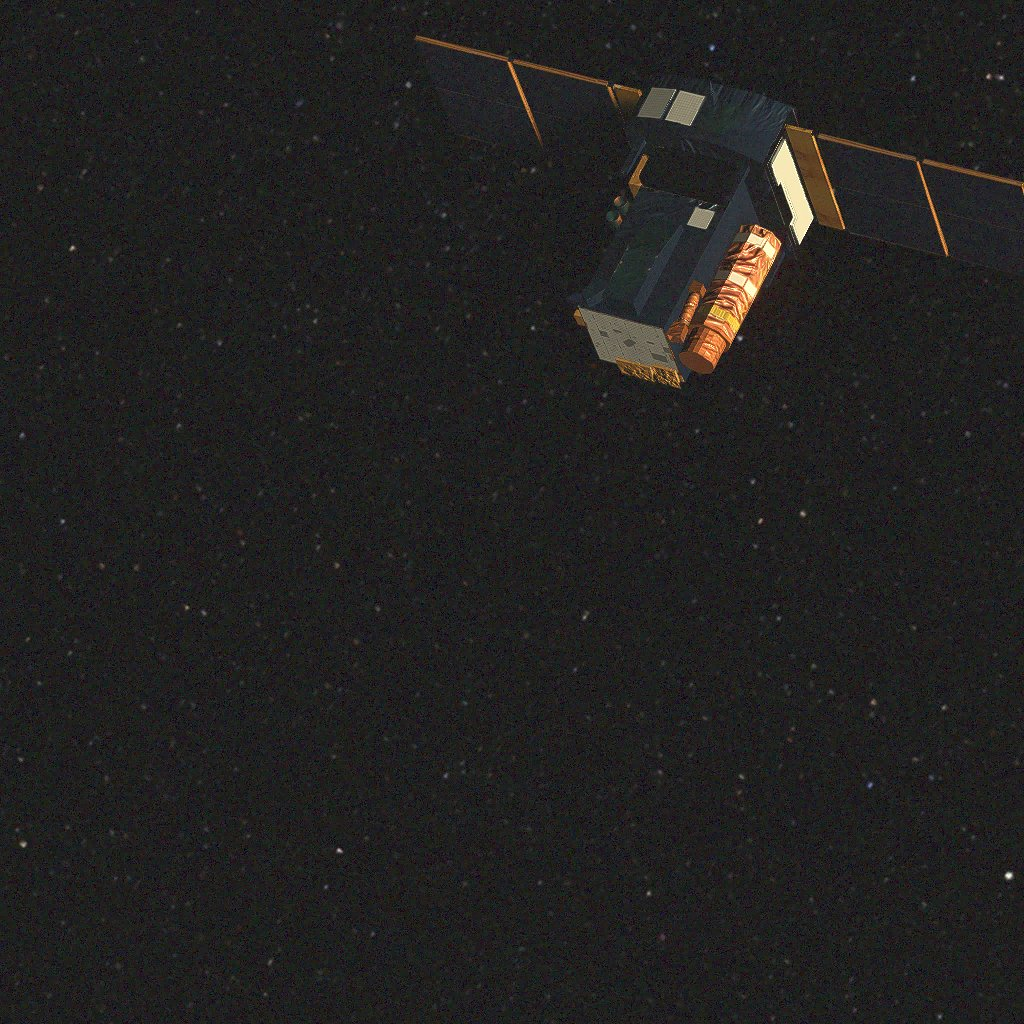soho: (414, 35, 1024, 389)
